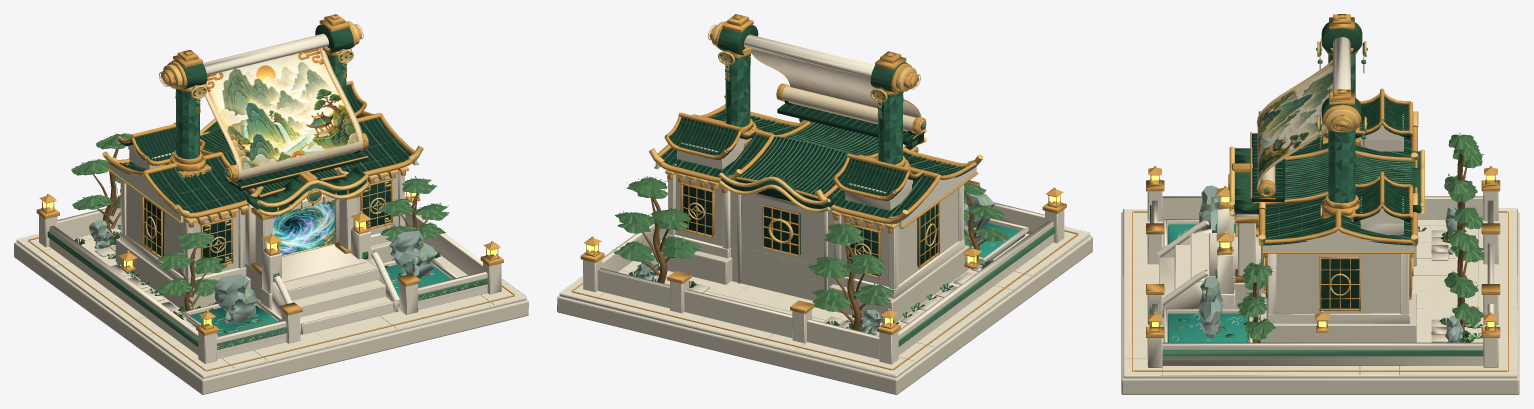
File: relic-lod1-e5ec306d9976.glb
3 renders of one model, left to right at view 1: azimuth 30°, elevation 25°; view 2: azimuth 150°, elevation 25°; view 3: azimuth 270°, elevation 25°, orthographic. The views are drawn at different scales.
Visible parts, largest first — view 1: GEO-export-MAT-relic-cream.019, GEO-export-MAT-relic-ivory.019, GEO-export-MAT-relic-rolled-front-v16.008, GEO-export-MAT-relic-gold.019, GEO-export-MAT-relic-jade-dark.019, GEO-export-MAT-relic-v20-needle-mid, GEO-export-MAT-relic-jade-light.019, GEO-export-MAT-relic-gold-light.019, GEO-export-MAT-relic-rock.019, GEO-export-MAT-relic-jade.019, GEO-export-MAT-relic-v17-portal-energy.006, GEO-export-MAT-relic-jade-mid.019 (+7 smaller); view 2: GEO-export-MAT-relic-cream.019, GEO-export-MAT-relic-ivory.019, GEO-export-MAT-relic-jade-dark.019, GEO-export-MAT-relic-gold.019, GEO-export-MAT-relic-v20-needle-mid, GEO-export-MAT-relic-jade-light.019, GEO-export-MAT-relic-gold-light.019, GEO-export-MAT-relic-scroll-painted-back.012, GEO-export-MAT-relic-jade-mid.019, GEO-export-MAT-relic-v20-needle-lit, GEO-export-MAT-relic-jade.019, GEO-export-MAT-relic-wood.019 (+8 smaller); view 3: GEO-export-MAT-relic-cream.019, GEO-export-MAT-relic-ivory.019, GEO-export-MAT-relic-gold.019, GEO-export-MAT-relic-jade-dark.019, GEO-export-MAT-relic-jade-light.019, GEO-export-MAT-relic-rolled-front-v16.008, GEO-export-MAT-relic-v20-needle-mid, GEO-export-MAT-relic-jade-mid.019, GEO-export-MAT-relic-gold-light.019, GEO-export-MAT-relic-jade.019, GEO-export-MAT-relic-rock.019, GEO-export-MAT-relic-water.019 (+7 smaller).
Boxes of the visible parts, x1=… form: GEO-export-MAT-relic-cream.019: x1=16, y1=33, x2=526, y2=378; GEO-export-MAT-relic-ivory.019: x1=14, y1=150, x2=528, y2=394; GEO-export-MAT-relic-rolled-front-v16.008: x1=203, y1=47, x2=363, y2=179; GEO-export-MAT-relic-gold.019: x1=28, y1=14, x2=514, y2=371; GEO-export-MAT-relic-jade-dark.019: x1=108, y1=85, x2=411, y2=263; GEO-export-MAT-relic-v20-needle-mid: x1=72, y1=133, x2=448, y2=296; GEO-export-MAT-relic-jade-light.019: x1=47, y1=55, x2=488, y2=349; GEO-export-MAT-relic-gold-light.019: x1=46, y1=21, x2=498, y2=319; GEO-export-MAT-relic-rock.019: x1=89, y1=220, x2=436, y2=327; GEO-export-MAT-relic-jade.019: x1=171, y1=24, x2=366, y2=212; GEO-export-MAT-relic-v17-portal-energy.006: x1=273, y1=200, x2=334, y2=255; GEO-export-MAT-relic-jade-mid.019: x1=119, y1=85, x2=405, y2=212; GEO-export-MAT-relic-cream.019: x1=559, y1=34, x2=1090, y2=378; GEO-export-MAT-relic-ivory.019: x1=557, y1=142, x2=1092, y2=394; GEO-export-MAT-relic-jade-dark.019: x1=661, y1=100, x2=976, y2=275; GEO-export-MAT-relic-gold.019: x1=571, y1=14, x2=1078, y2=370; GEO-export-MAT-relic-v20-needle-mid: x1=612, y1=176, x2=1008, y2=311; GEO-export-MAT-relic-jade-light.019: x1=664, y1=54, x2=1055, y2=346; GEO-export-MAT-relic-gold-light.019: x1=585, y1=21, x2=1056, y2=318; GEO-export-MAT-relic-scroll-painted-back.012: x1=751, y1=49, x2=919, y2=117; GEO-export-MAT-relic-jade-mid.019: x1=666, y1=116, x2=965, y2=217; GEO-export-MAT-relic-v20-needle-lit: x1=616, y1=179, x2=1007, y2=311; GEO-export-MAT-relic-jade.019: x1=718, y1=25, x2=923, y2=208; GEO-export-MAT-relic-wood.019: x1=641, y1=194, x2=986, y2=330; GEO-export-MAT-relic-cream.019: x1=1123, y1=37, x2=1517, y2=378; GEO-export-MAT-relic-ivory.019: x1=1121, y1=114, x2=1519, y2=394; GEO-export-MAT-relic-gold.019: x1=1132, y1=14, x2=1508, y2=371; GEO-export-MAT-relic-jade-dark.019: x1=1251, y1=97, x2=1414, y2=308; GEO-export-MAT-relic-jade-light.019: x1=1150, y1=48, x2=1483, y2=356; GEO-export-MAT-relic-rolled-front-v16.008: x1=1257, y1=61, x2=1332, y2=184; GEO-export-MAT-relic-v20-needle-mid: x1=1238, y1=133, x2=1484, y2=339; GEO-export-MAT-relic-jade-mid.019: x1=1265, y1=96, x2=1411, y2=239; GEO-export-MAT-relic-gold-light.019: x1=1149, y1=39, x2=1496, y2=321; GEO-export-MAT-relic-jade.019: x1=1234, y1=22, x2=1421, y2=214; GEO-export-MAT-relic-rock.019: x1=1167, y1=185, x2=1472, y2=342; GEO-export-MAT-relic-water.019: x1=1168, y1=224, x2=1247, y2=342.
Bounding box in the file's own units: 10 × 7.16 × 10.
32 materials, 3 textured.
